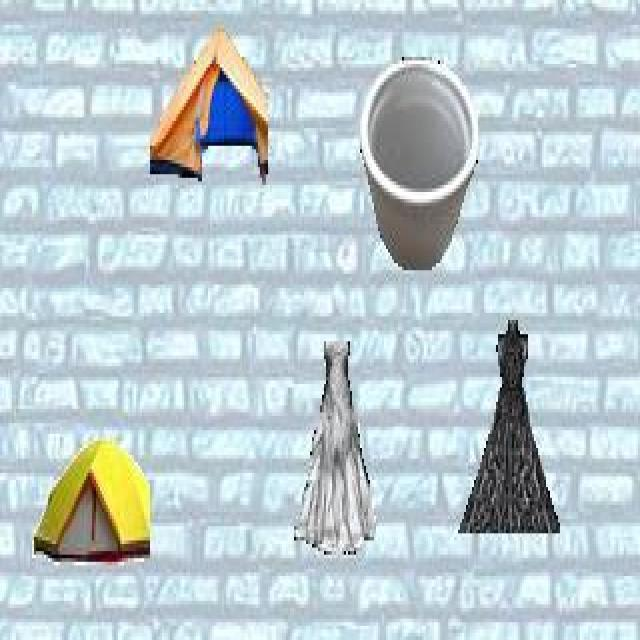Other Objects: (359, 56, 478, 270), (456, 318, 562, 537), (292, 338, 377, 556)
